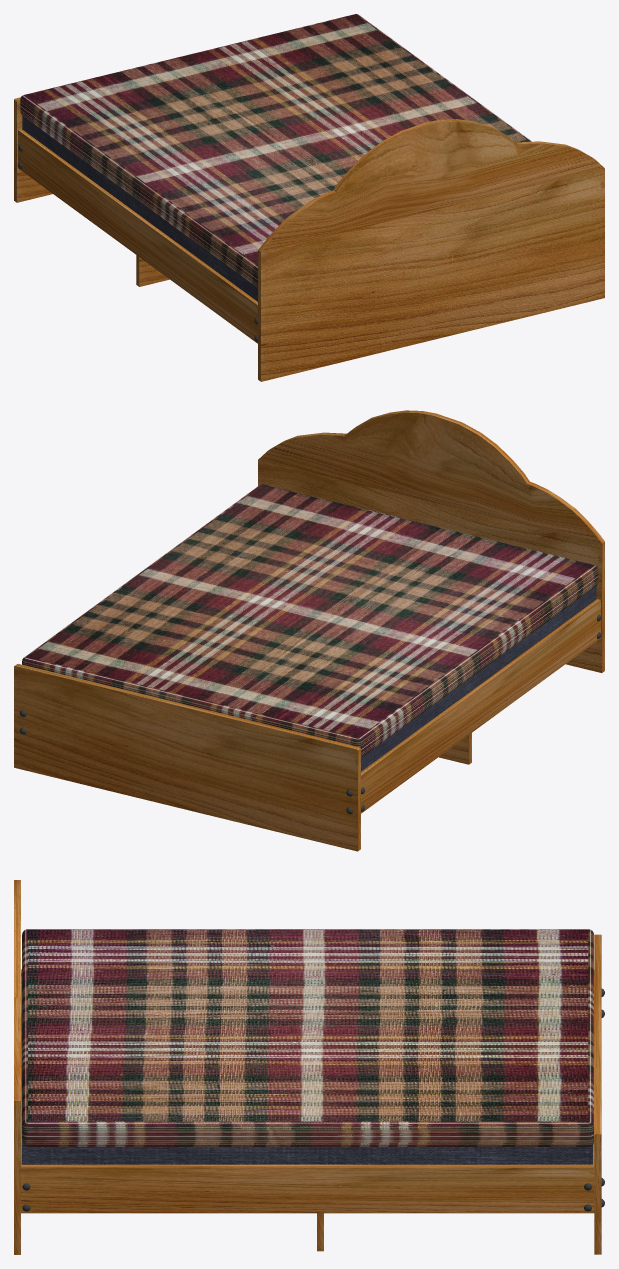
The picture shows the model from 3 angles, top to bottom: view 1: azimuth 30°, elevation 25°; view 2: azimuth 150°, elevation 25°; view 3: azimuth 270°, elevation 25°; orthographic projection. The views are drawn at different scales.
Visible parts, largest first — view 1: Объект_Куб_7, Объект_Куб_10, Объект_Куб_1, Объект_Куб_3, Объект_Куб_6, Объект_Куб_5, Объект_Куб; view 2: Объект_Куб_7, Объект_Куб_5, Объект_Куб_1, Объект_Куб_3, Объект_Куб_10, Объект_Куб_6; view 3: Объект_Куб_7, Объект_Куб_2, Объект_Куб_6, Объект_Куб_5, Объект_Куб_1, Объект_Куб_10.
Part boxes in pixels (x1,y1,x2,y2): Объект_Куб_7: [20, 14, 531, 287]; Объект_Куб_10: [258, 168, 604, 381]; Объект_Куб_1: [258, 119, 604, 252]; Объект_Куб_3: [18, 129, 257, 343]; Объект_Куб_6: [22, 116, 257, 301]; Объект_Куб_5: [14, 97, 52, 202]; Объект_Куб: [136, 255, 169, 286]; Объект_Куб_7: [22, 484, 598, 757]; Объект_Куб_5: [14, 664, 360, 851]; Объект_Куб_1: [258, 410, 604, 543]; Объект_Куб_3: [361, 599, 600, 813]; Объект_Куб_10: [258, 459, 604, 672]; Объект_Куб_6: [361, 586, 596, 771]; Объект_Куб_7: [22, 929, 593, 1146]; Объект_Куб_2: [21, 1164, 594, 1213]; Объект_Куб_6: [22, 1142, 592, 1164]; Объект_Куб_5: [594, 934, 601, 1254]; Объект_Куб_1: [14, 880, 20, 1100]; Объект_Куб_10: [14, 1101, 20, 1254].
Bounding box in the file's own units: 763 × 457 × 951.
Materials: 4 (4 with a texture image).
